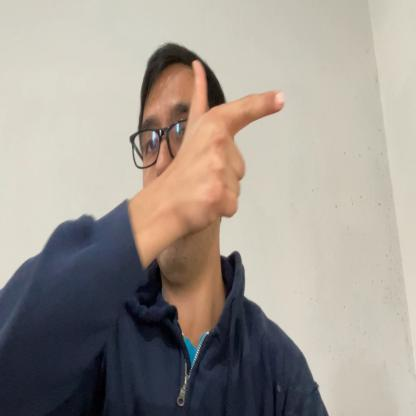G: (188, 60, 285, 230)
